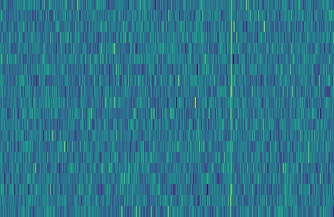signal: (227, 0, 236, 217)
